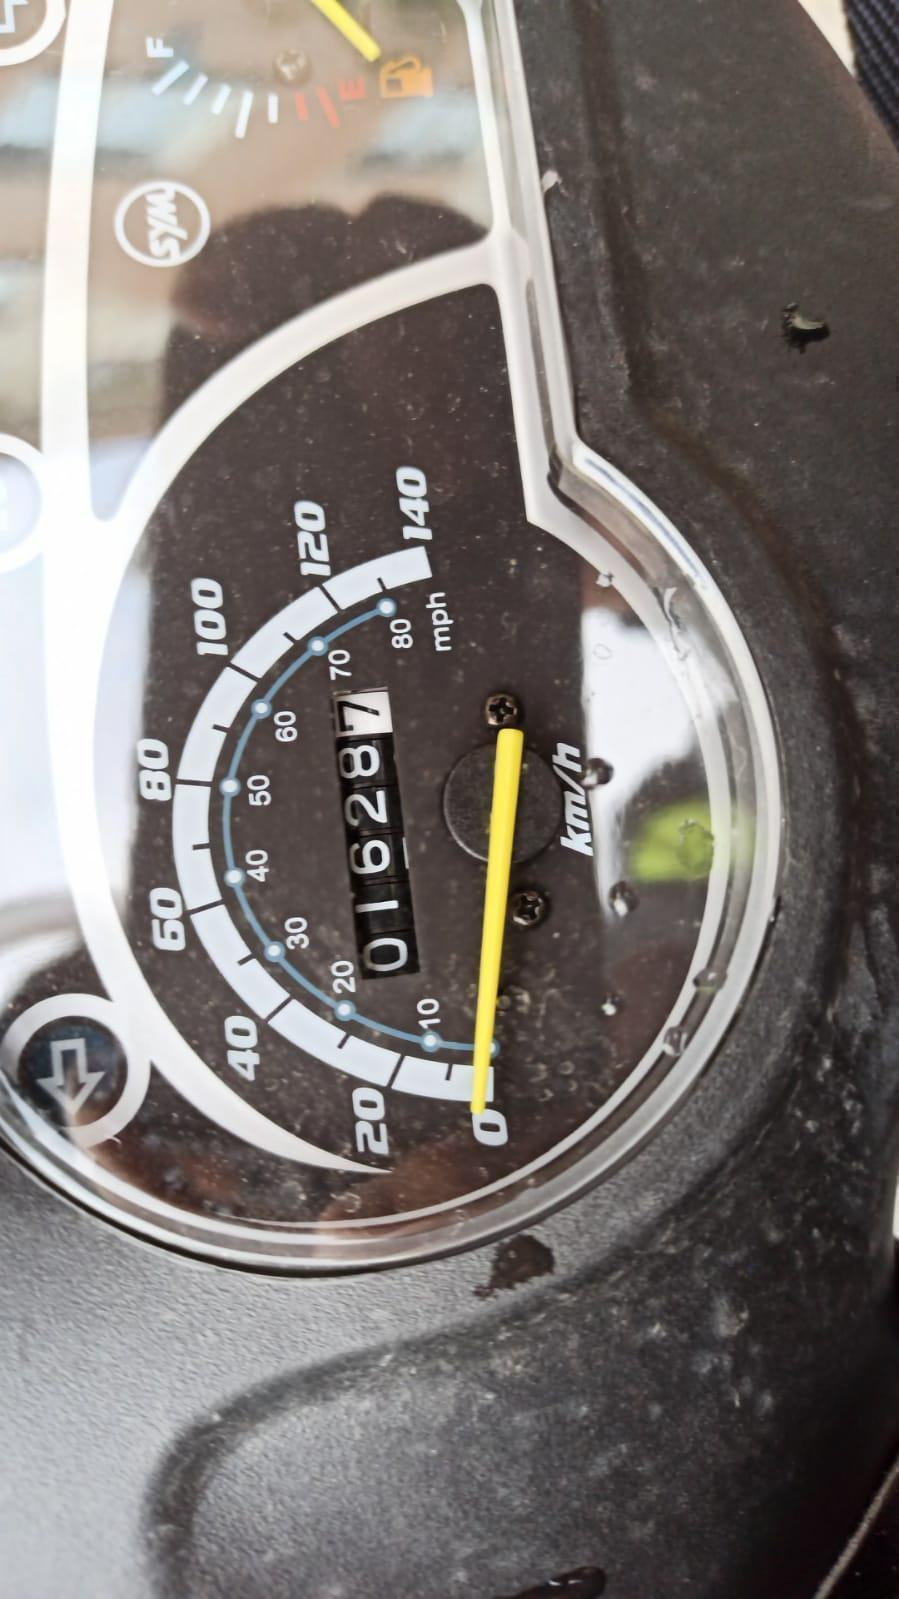0: (358, 935, 414, 973), (326, 953, 353, 976)
1: (345, 892, 411, 920)
2: (342, 785, 394, 829)
6: (341, 836, 395, 877)
7: (330, 696, 393, 733)
8: (333, 740, 385, 779)
odometer: (324, 678, 435, 984)
